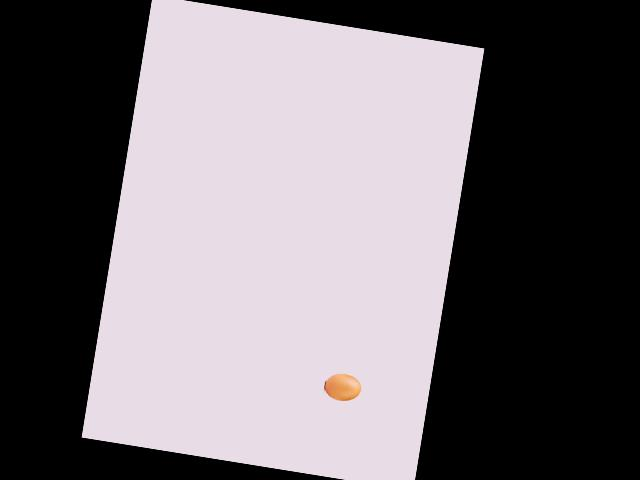egg: (322, 371, 363, 403)
